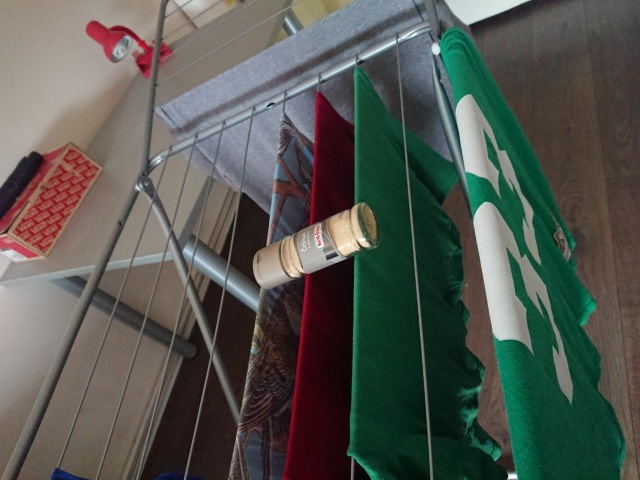Kotanyi Garlic Granules 70g: (249, 198, 385, 293)
